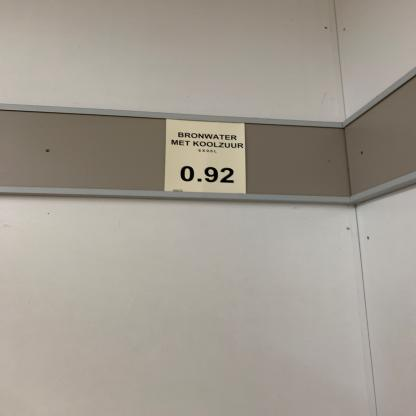prtg: (165, 120, 247, 195)
